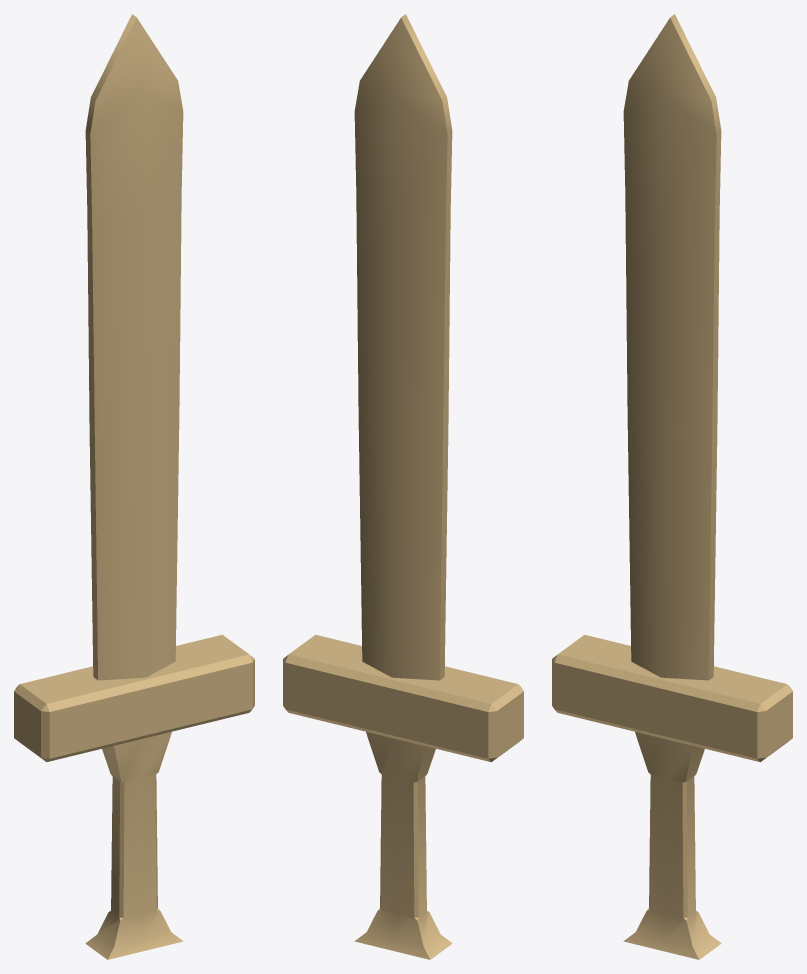
File: Weapon_sword_wood.fbx
3 renders of one model, left to right at view 1: azimuth 30°, elevation 25°; view 2: azimuth 150°, elevation 25°; view 3: azimuth 330°, elevation 25°, orthographic.
Parts seen in each view (by area): view 1: sword_wood; view 2: sword_wood; view 3: sword_wood.
Boxes of the visible parts, box(x1,y1,x2,y2) form: sword_wood: box(14, 14, 254, 959); sword_wood: box(283, 14, 523, 959); sword_wood: box(552, 14, 792, 959).
Bounding box in the file's own units: 5.5 × 22.74 × 1.49.
